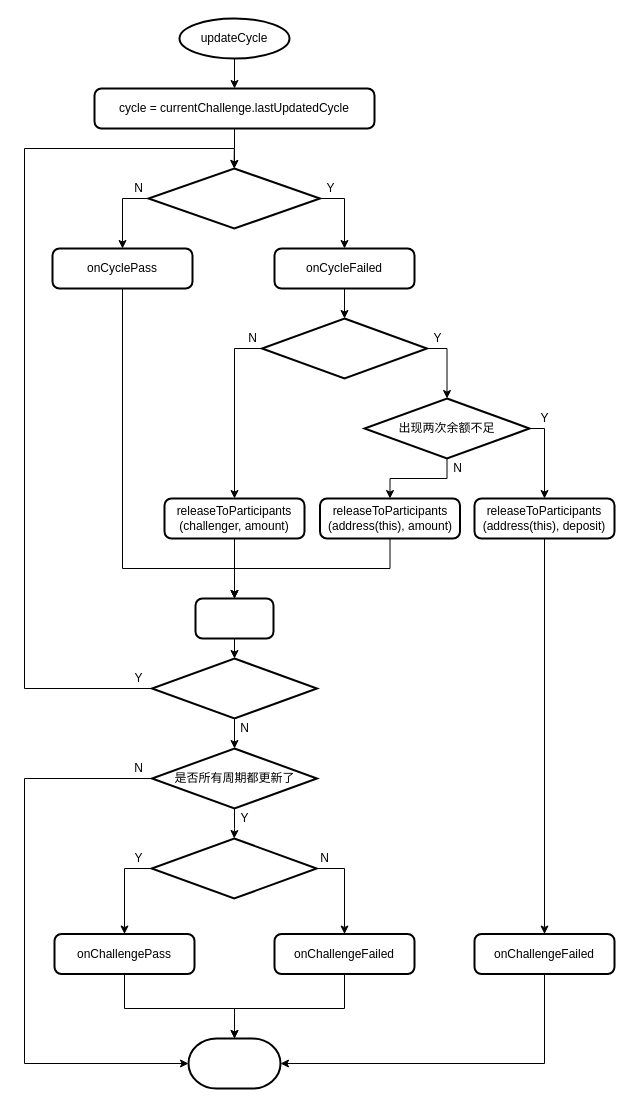
The diagram is 633 pixels wide and 1106 high, and some of its shapes have lost their labels. Each missing label, with the box of its shape:
checkSuccess(): (150, 837, 317, 899)
cycle++: (194, 597, 274, 639)
End: (187, 1037, 281, 1089)
余额不足或 授权额度不足: (260, 317, 428, 379)
周期cycle没有发博客: (147, 167, 320, 229)
周期cycle能否更新: (150, 657, 318, 719)
